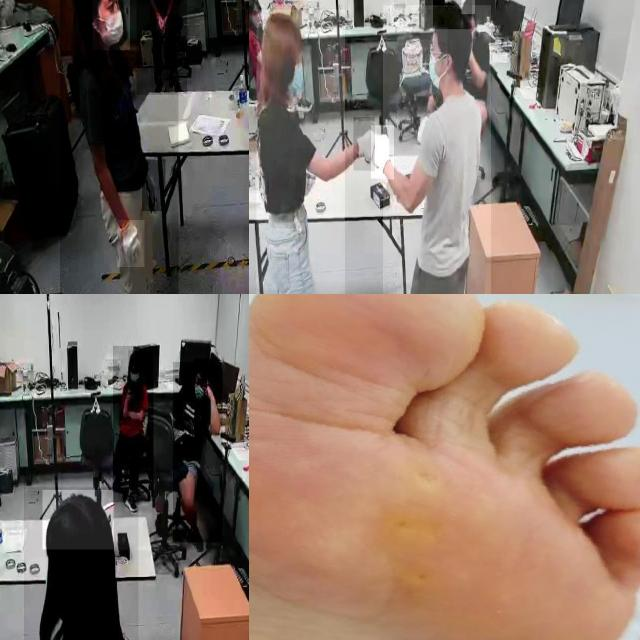Barefoots: (249, 294, 640, 640)
face_mask: (279, 46, 311, 106), (92, 0, 129, 50), (420, 28, 448, 94), (193, 379, 207, 402), (130, 367, 142, 384)
hand_glove: (117, 220, 145, 268), (142, 160, 166, 212), (371, 126, 394, 180), (353, 118, 375, 172)
hand_noglove: (157, 17, 168, 35), (204, 382, 214, 400), (124, 386, 136, 400), (156, 13, 164, 31), (160, 14, 168, 32)
head_nohelmet: (42, 490, 114, 550), (262, 12, 302, 44), (433, 0, 472, 30), (194, 358, 214, 374), (128, 350, 142, 366), (461, 0, 475, 15), (249, 0, 261, 6)
person: (60, 0, 179, 294), (382, 5, 491, 294), (256, 9, 345, 294), (24, 487, 139, 640), (173, 362, 223, 543), (113, 346, 154, 502), (136, 0, 187, 94), (249, 0, 265, 80)
